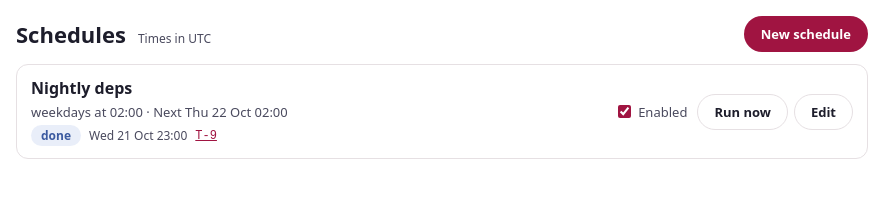
ScheduleList › a skipped run now shows its reason
Click the button with aria-label "Run Nightly deps now" at (743, 112), box left=697, top=94, right=788, bottom=130
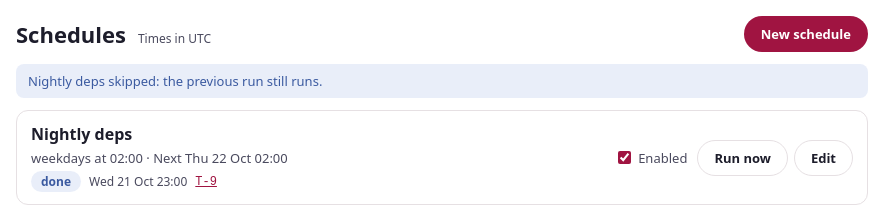
Result: the message shows "Nightly deps skipped: the previous run still runs" at left=28, top=72, right=322, bottom=90
